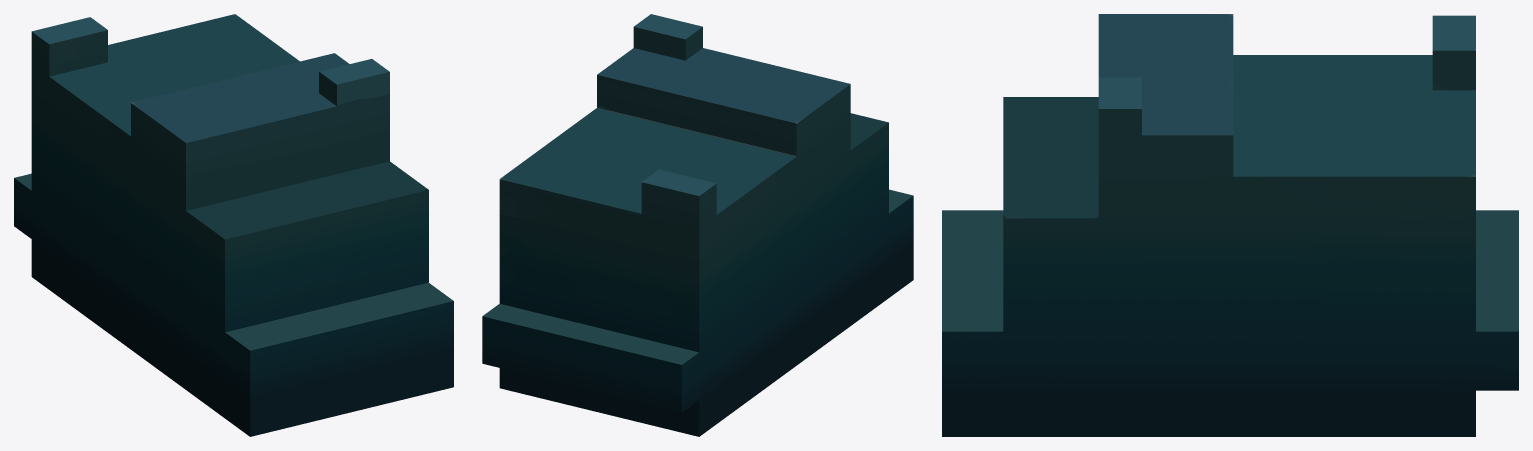
File: Arbusto 5.obj
The picture shows the model from 3 angles, left to right: view 1: azimuth 30°, elevation 25°; view 2: azimuth 150°, elevation 25°; view 3: azimuth 270°, elevation 25°; orthographic projection. The views are drawn at different scales.
Visible parts, largest first — view 1: Arbusto 5; view 2: Arbusto 5; view 3: Arbusto 5.
Boxes of the visible parts, bbox=[...] form: Arbusto 5: bbox=[14, 14, 453, 436]; Arbusto 5: bbox=[482, 14, 913, 436]; Arbusto 5: bbox=[942, 14, 1518, 436].
Size of the model in its own units: 1.24 by 1.56 by 2.49.
Materials: 1 (1 with a texture image).
